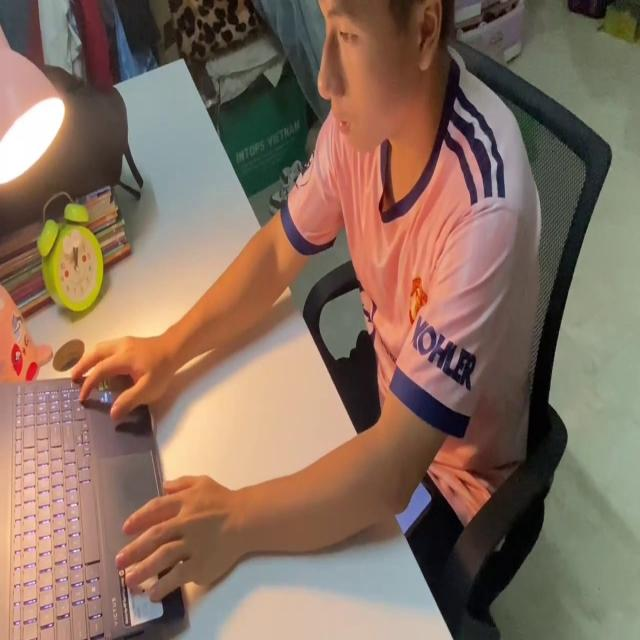laptop: (0, 366, 189, 640)
student: (71, 6, 546, 605)
